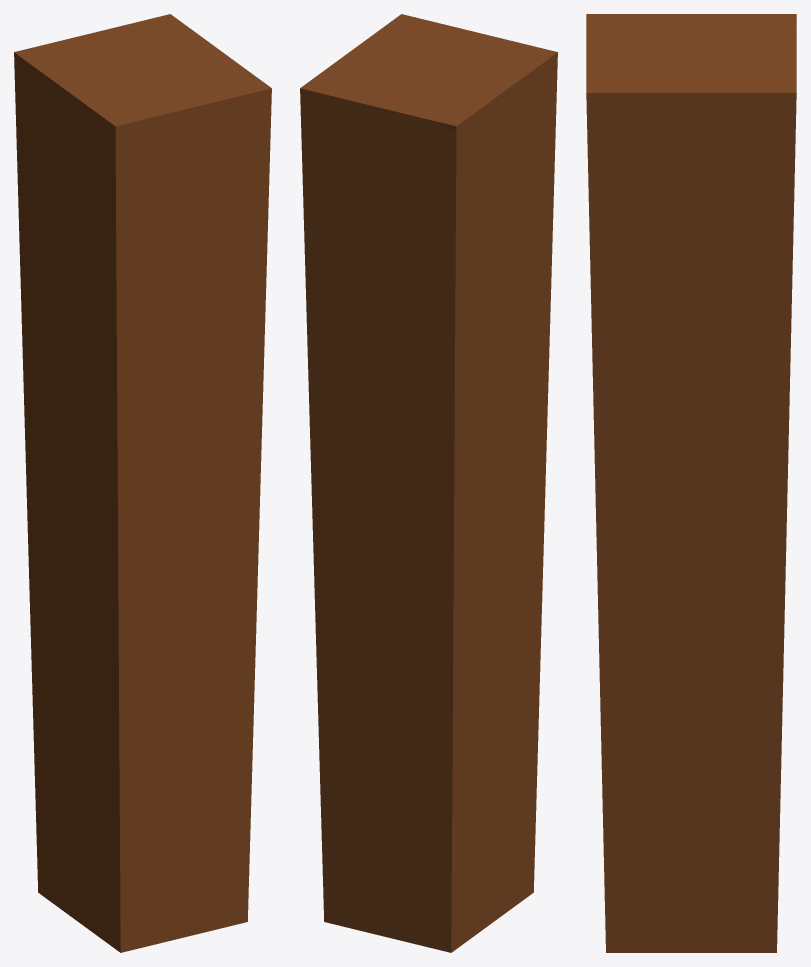
File: Fence_pillar_decoration.fbx
The picture shows the model from 3 angles, left to right: view 1: azimuth 30°, elevation 25°; view 2: azimuth 150°, elevation 25°; view 3: azimuth 270°, elevation 25°; orthographic projection. The views are drawn at different scales.
Parts seen in each view (by area): view 1: Fence_pillar_decoration; view 2: Fence_pillar_decoration; view 3: Fence_pillar_decoration.
Part boxes in pixels (x1,y1,x2,y2): Fence_pillar_decoration: (14, 14, 271, 952); Fence_pillar_decoration: (300, 14, 557, 952); Fence_pillar_decoration: (586, 14, 796, 952).
Bounding box in the file's own units: 41.07 × 210 × 46.14.
